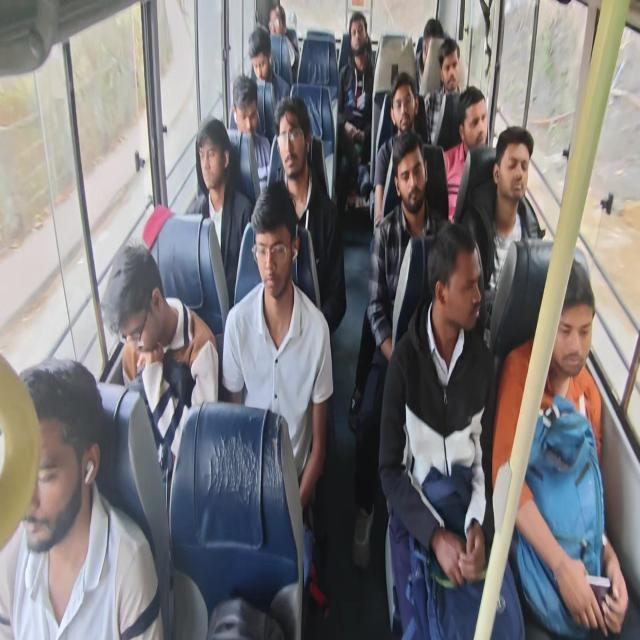person: (2, 5, 630, 637), (378, 221, 526, 638), (492, 254, 629, 638), (0, 356, 164, 639), (221, 180, 334, 589), (350, 130, 450, 569), (100, 241, 219, 514), (454, 125, 545, 341), (268, 95, 346, 335), (188, 116, 254, 308), (372, 72, 428, 230), (335, 12, 374, 210), (442, 86, 488, 223), (228, 74, 271, 194), (248, 26, 290, 140), (422, 37, 462, 148), (267, 4, 299, 82), (415, 18, 445, 81)
